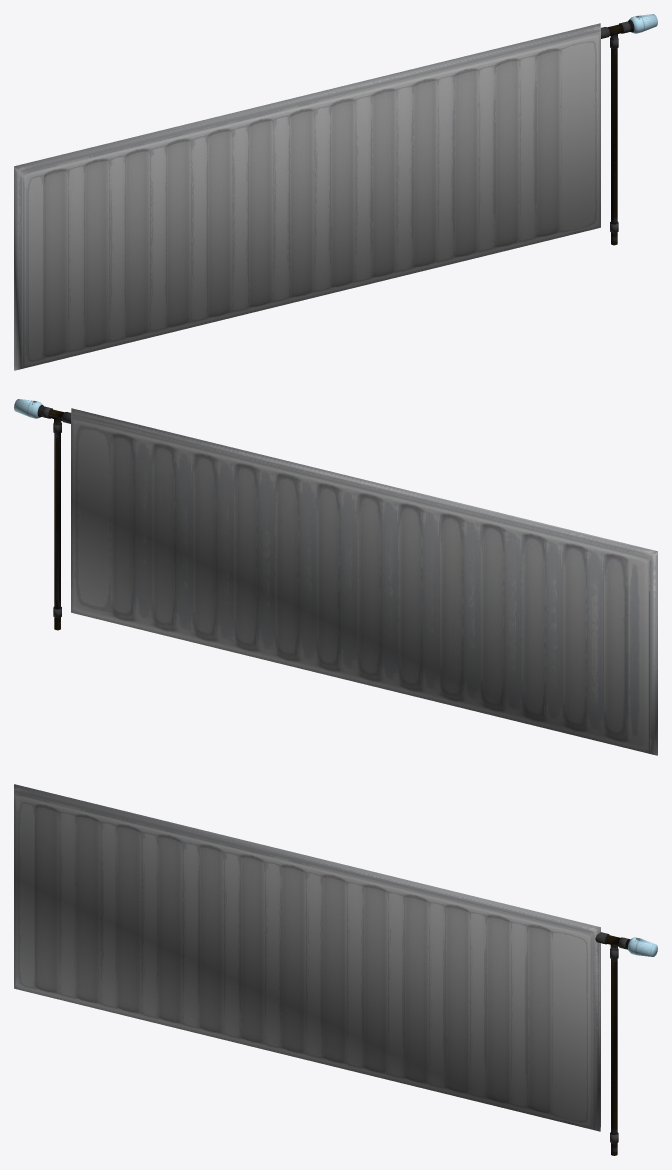
3 views of the same model, one above another, from view 1: azimuth 30°, elevation 25°; view 2: azimuth 150°, elevation 25°; view 3: azimuth 330°, elevation 25° (orthographic).
Parts seen in each view (by area): view 1: Object_2; view 2: Object_2; view 3: Object_2.
Part boxes in pixels (x1=…): Object_2: x1=14, y1=14, x2=657, y2=370; Object_2: x1=14, y1=399, x2=657, y2=755; Object_2: x1=14, y1=784, x2=657, y2=1155.
Size of the model in its own units: 6.55 by 2.19 by 0.1531.
1 material, 1 textured.
